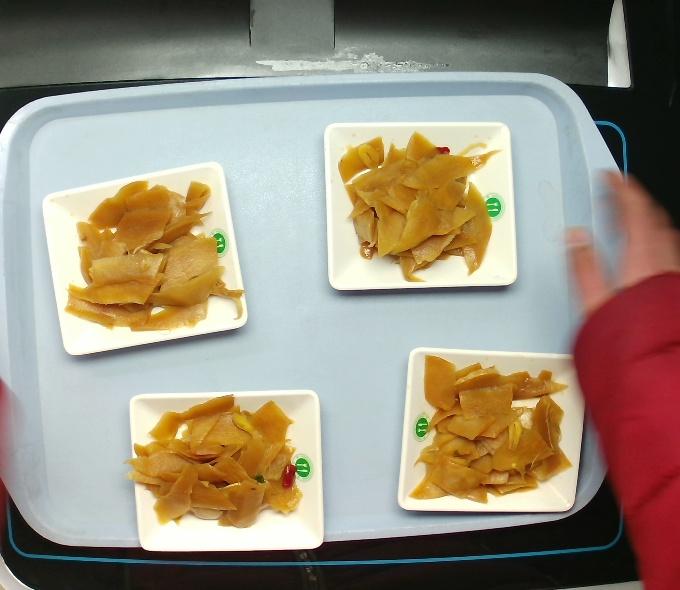wcq-JiangLuoBo: (71, 168, 226, 344), (404, 356, 571, 503), (130, 397, 305, 528), (349, 131, 493, 288)
